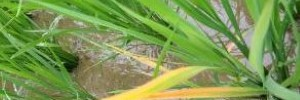RiceTungro: (93, 74, 255, 100)
